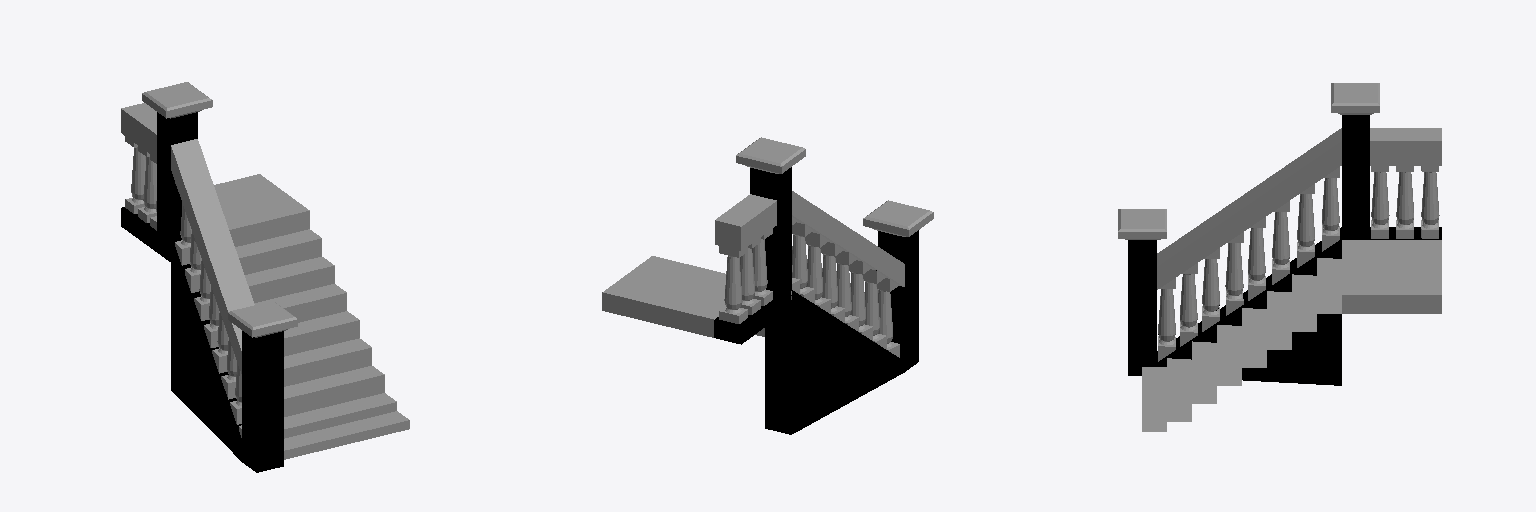
The model's file is escada.obj.
3 renders of one model, left to right at view 1: azimuth 30°, elevation 25°; view 2: azimuth 150°, elevation 25°; view 3: azimuth 270°, elevation 25°, orthographic.
Parts seen in each view (by area): view 1: Escada_Plano.001; view 2: Escada_Plano.001; view 3: Escada_Plano.001.
Boxes of the visible parts, box(x1,y1,x2,y2) form: Escada_Plano.001: box(121, 82, 409, 472); Escada_Plano.001: box(602, 137, 933, 434); Escada_Plano.001: box(1118, 83, 1441, 431).
Bounding box in the file's own units: 1.36 × 2.19 × 2.24.